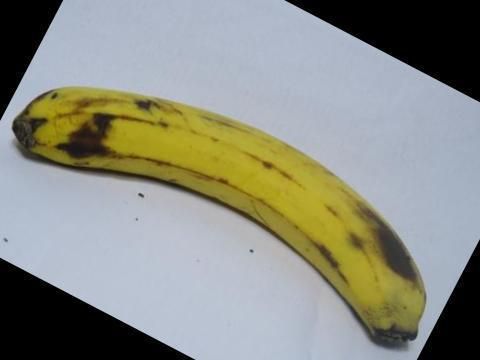ripe: (17, 65, 430, 350)
